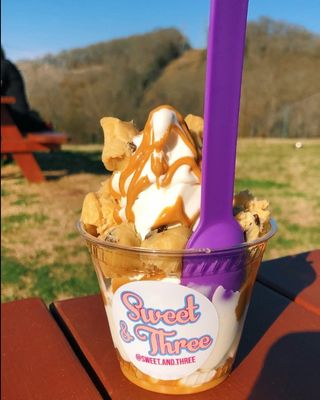soup: (176, 2, 267, 397), (78, 104, 204, 250)
